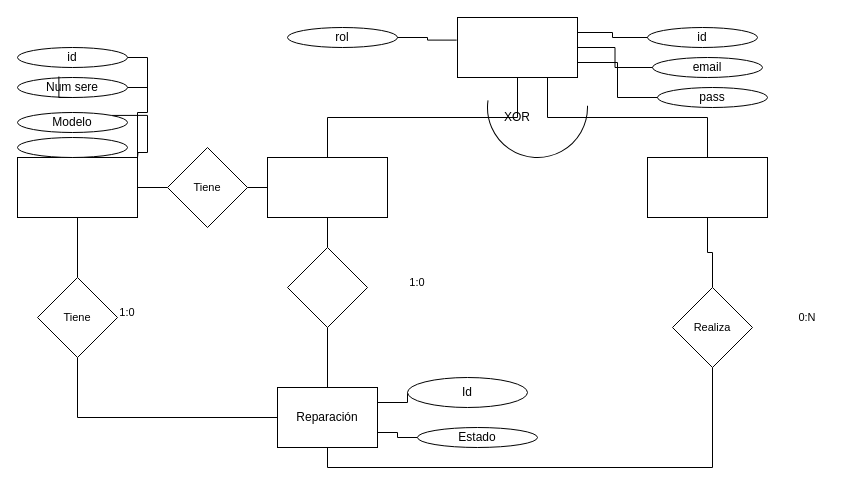
This 855x486 diagram has some shape labels left out. Each missing label, with the centre of its shape:
Admin: (707,187)
Cliente: (327,187)
Equipo: (77,187)
Marca: (72,147)
Solicita: (327,287)
Usuario: (517,47)
